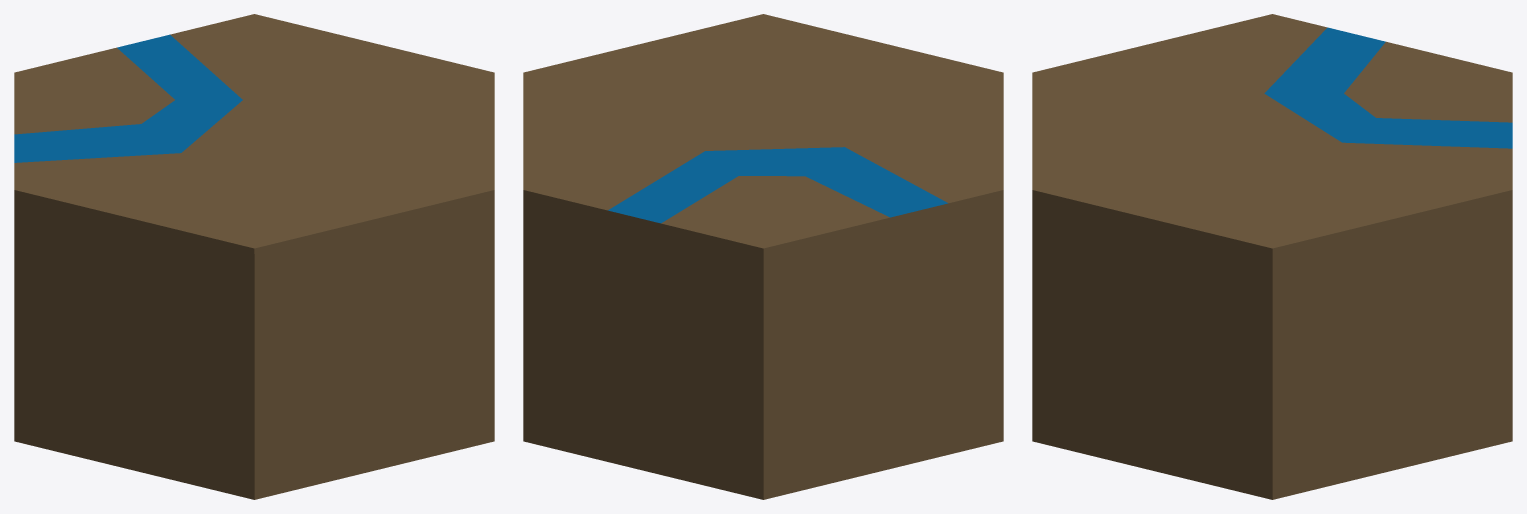
Rendered from Hexagon2.fbx.
The picture shows the model from 3 angles, left to right: view 1: azimuth 30°, elevation 25°; view 2: azimuth 150°, elevation 25°; view 3: azimuth 270°, elevation 25°; orthographic projection.
Visible parts, largest first — view 1: Cylinder; view 2: Cylinder; view 3: Cylinder.
Part boxes in pixels (box(x1,y1,x2,y2)): Cylinder: box(14, 14, 494, 499); Cylinder: box(523, 14, 1003, 499); Cylinder: box(1032, 14, 1512, 499).
Size of the model in its own units: 1000 by 500 by 866.
